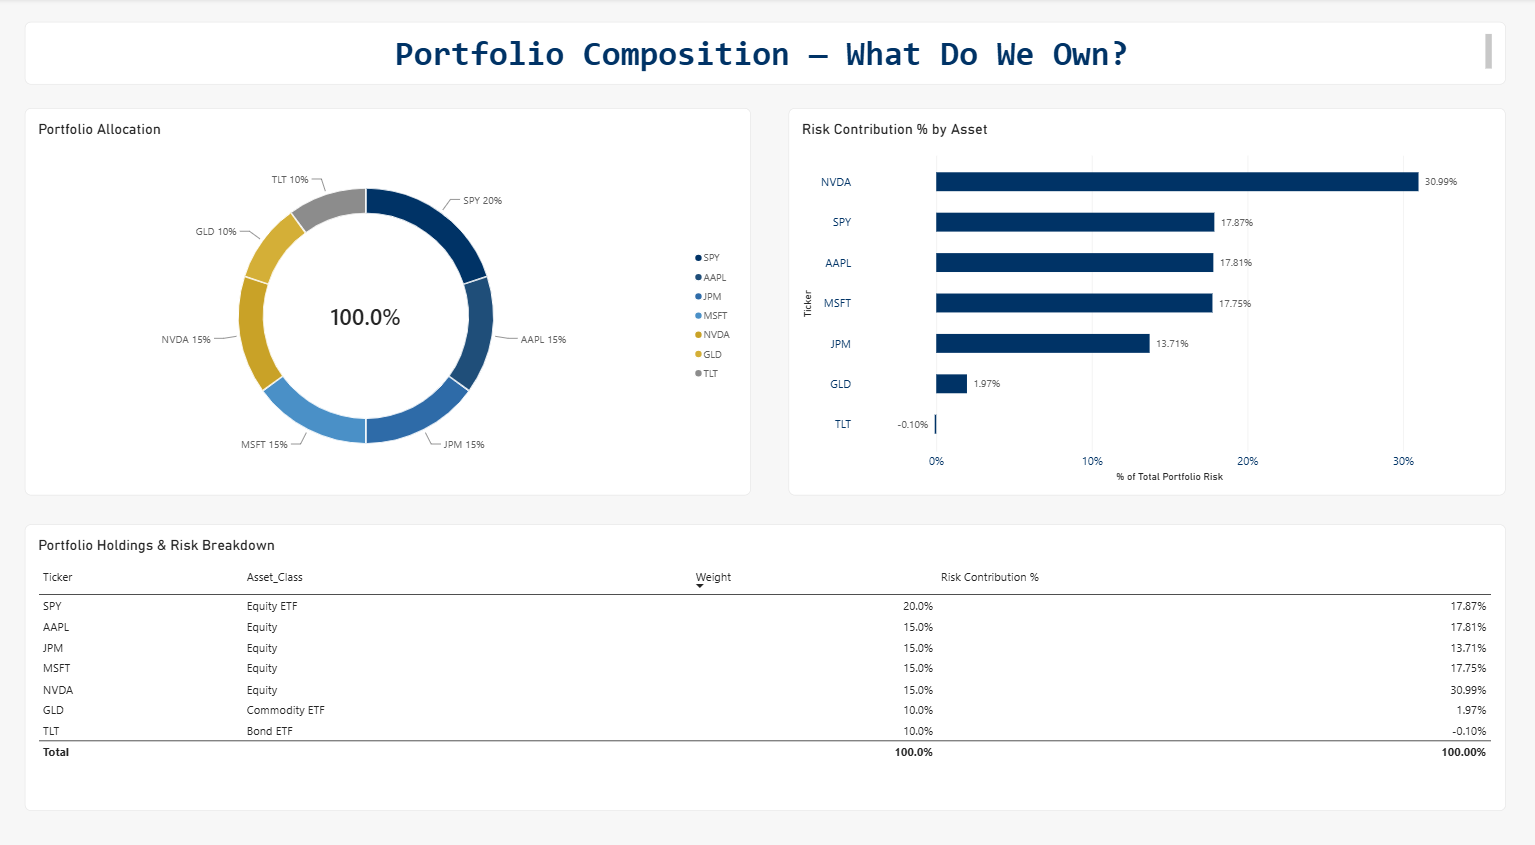

What the dashboard file says about the page in this screenshot:
{"tool":"powerbi","page":{"name":"Portfolio Composition","canvas":[1920,1080],"ordinal":2},"visuals":[{"type":"donutChart","title":"Portfolio Allocation","fields":{"Category":["powerbi_risk_contribution.Ticker"],"Y":["Sum(powerbi_risk_contribution.Weight)"]},"box":[36.6,137.8,905.2,483.1],"z":0},{"type":"tableEx","title":"Portfolio Holdings & Risk Breakdown","fields":{"Values":["powerbi_risk_contribution.Ticker","powerbi_portfolio_holdings.Asset_Class","Sum(powerbi_risk_contribution.Weight)","Sum(powerbi_risk_contribution.Risk_Contribution_Pct)"]},"box":[36.6,655.8,1847.1,357.6],"z":1000},{"type":"clusteredBarChart","title":"Risk Contribution % by Asset","fields":{"Category":["powerbi_risk_contribution.Ticker"],"Y":["Sum(powerbi_risk_contribution.Risk_Contribution_Pct)"]},"box":[989,137.8,894.8,483.1],"z":2000},{"type":"textbox","box":[36.6,29.7,1847.1,78.5],"z":3000}]}

Visuals, with their boxes in screenshot pixels (x1, y1, x2, y2), scaled from the page's 1920x1080 canvas onto the 1535x845 screenshot:
"Portfolio Allocation" donutChart: {"x1": 29, "y1": 108, "x2": 753, "y2": 486}
"Portfolio Holdings & Risk Breakdown" tableEx: {"x1": 29, "y1": 513, "x2": 1506, "y2": 793}
"Risk Contribution % by Asset" clusteredBarChart: {"x1": 791, "y1": 108, "x2": 1506, "y2": 486}
textbox: {"x1": 29, "y1": 23, "x2": 1506, "y2": 85}
